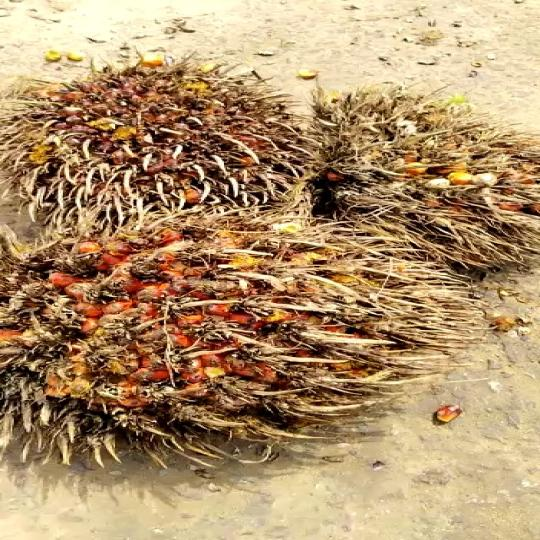terlalu masak: (0, 211, 446, 460), (0, 56, 305, 217), (283, 90, 540, 270)
